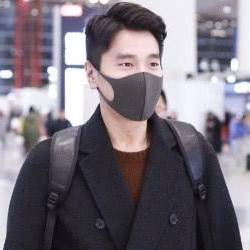mask: (77, 61, 167, 126)
